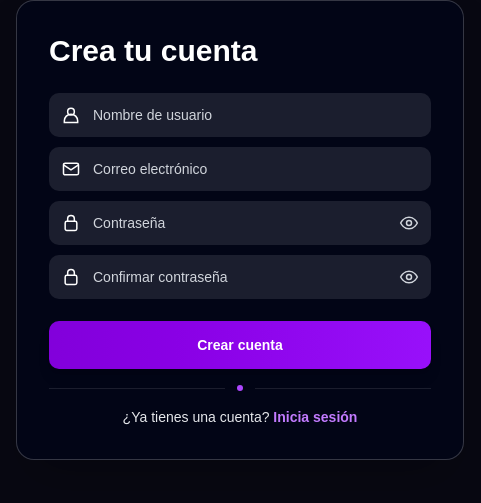
RegisterForm › should reject an empty email
The width and height of the screenshot is (481, 503).
In the field labelled "Nombre de usuario": (256, 115) top-left (93, 93), bottom-right (419, 137), type "testuser"
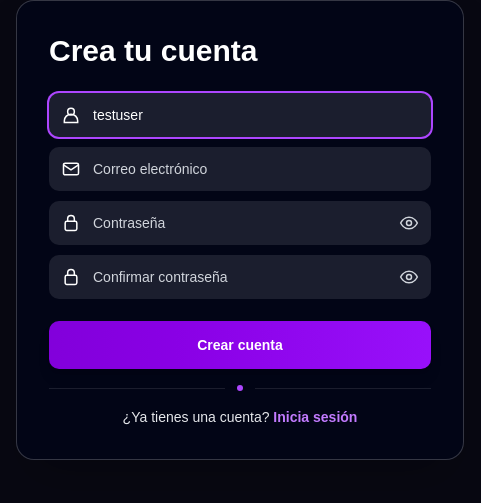
In the password field labelled "Contraseña": (240, 223) top-left (93, 201), bottom-right (387, 245), type "Password123"
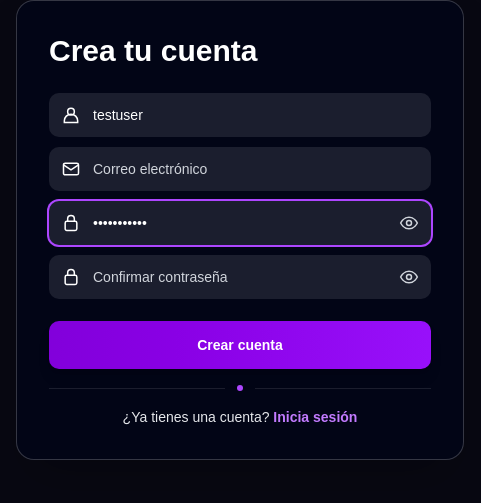
In the password field labelled "Confirmar contraseña": (240, 277) top-left (93, 255), bottom-right (387, 299), type "Password123"
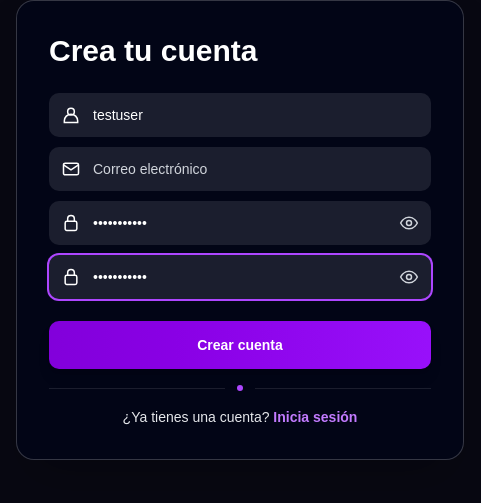
Click the button "Crear cuenta": (240, 345) top-left (49, 321), bottom-right (431, 369)
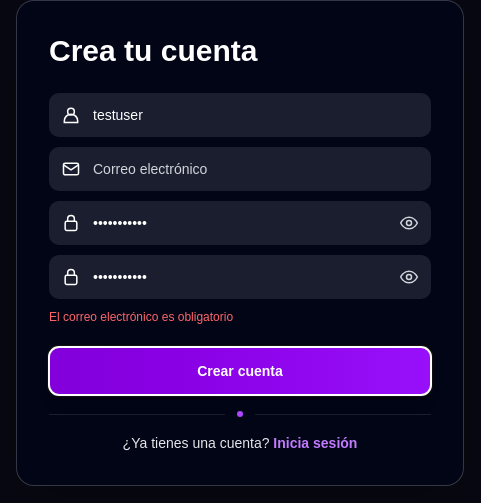
Expected: the message reads "El correo electrónico es obligatorio", top-left (49, 310), bottom-right (233, 324)
